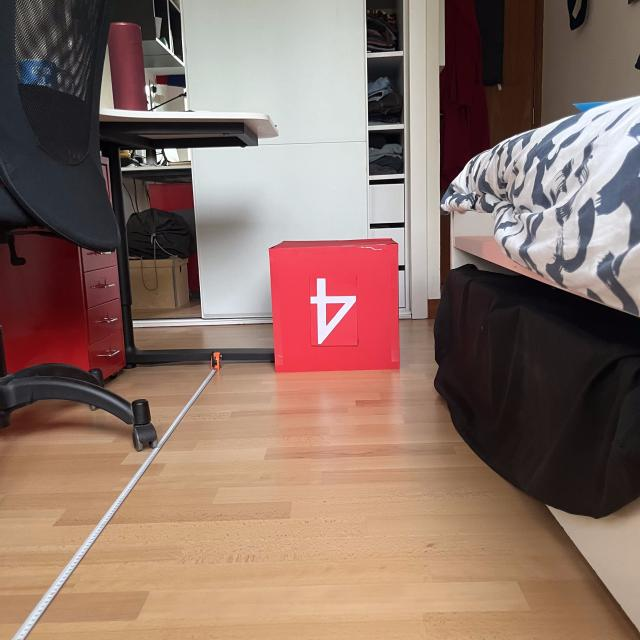box: (265, 235, 403, 374)
